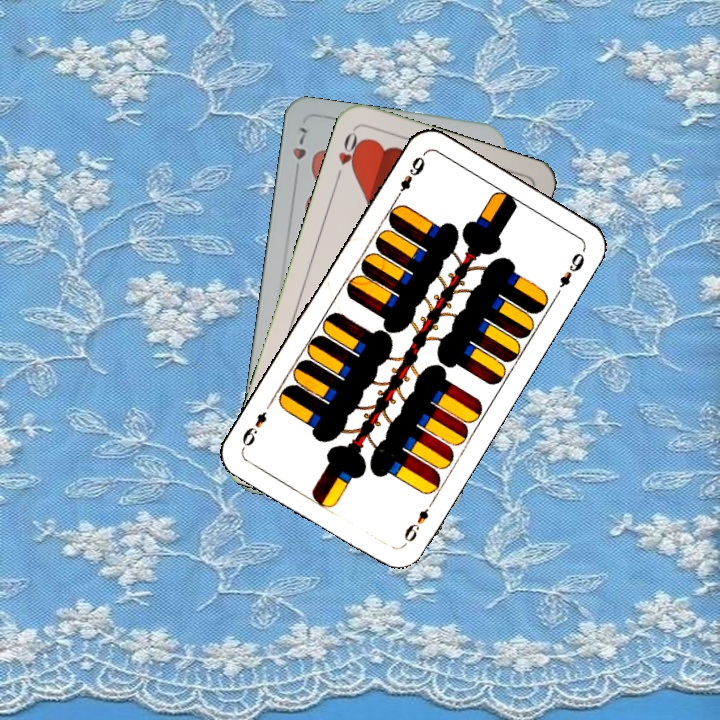E9: (399, 495, 437, 548), (391, 150, 428, 203)
H7: (288, 123, 310, 180)
HO: (332, 126, 366, 183)
